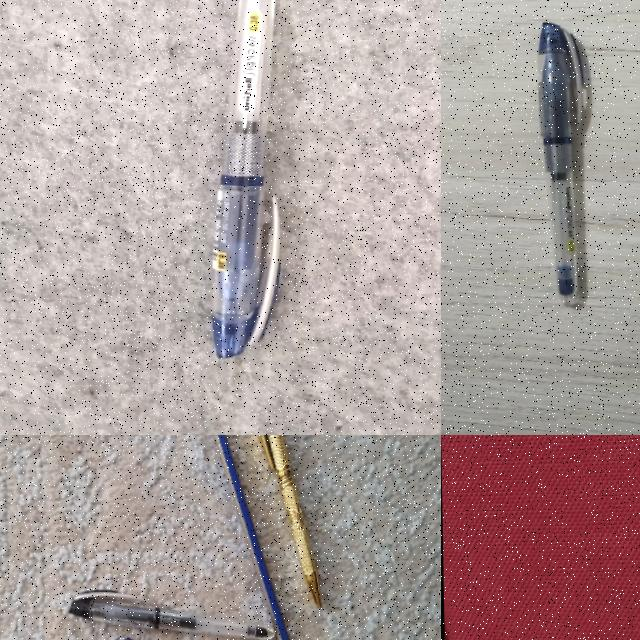pen: (212, 0, 278, 358), (538, 22, 583, 305), (73, 587, 272, 640)
pencil: (213, 435, 288, 640)
signature pen: (248, 435, 314, 604)
